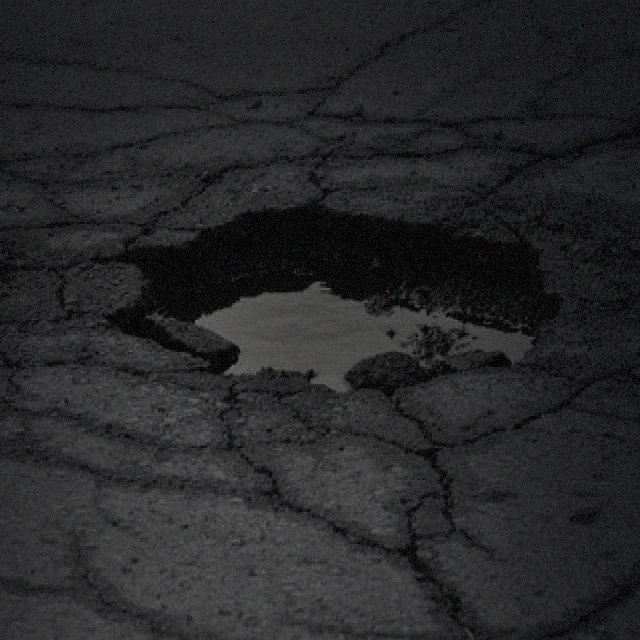pothole: (102, 190, 564, 405)
